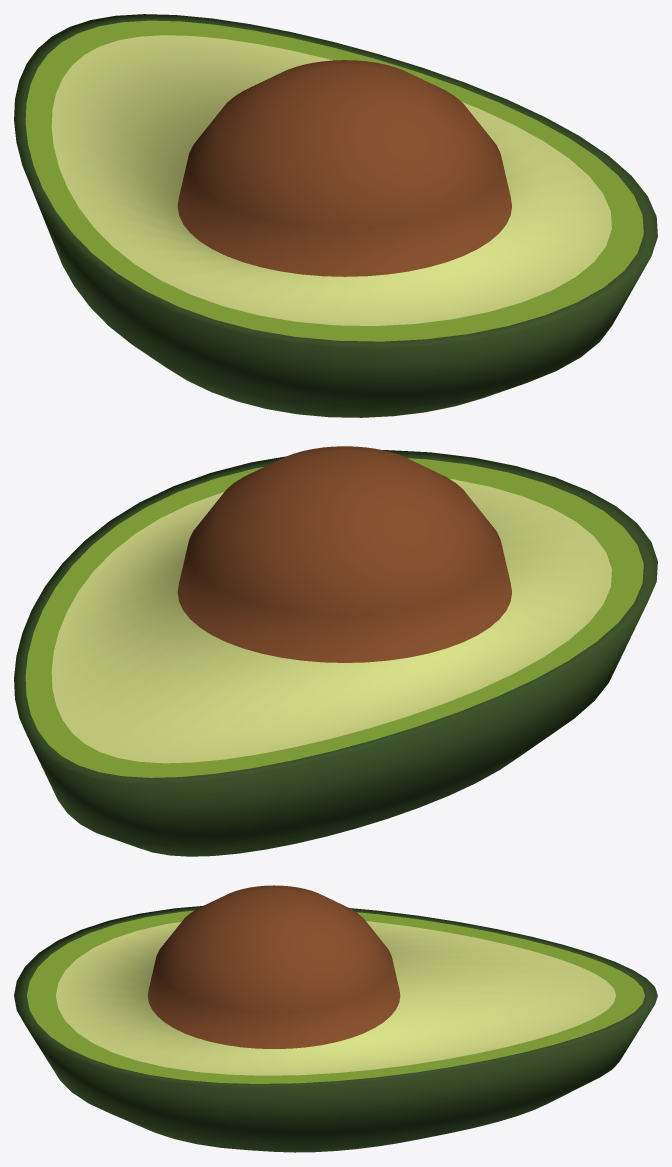
The model's file is NEW_RECOVERY_044_LOD0.fbx.
3 views of the same model, one above another, from view 1: azimuth 30°, elevation 25°; view 2: azimuth 150°, elevation 25°; view 3: azimuth 270°, elevation 25° (orthographic). The views are drawn at different scales.
Visible parts, largest first — view 1: Avocado_half; view 2: Avocado_half; view 3: Avocado_half.
Part boxes in pixels (x1,y1,x2,y2): Avocado_half: (14,14,657,417); Avocado_half: (14,446,657,856); Avocado_half: (14,885,657,1152).
Size of the model in its own units: 176 by 260 by 100.
